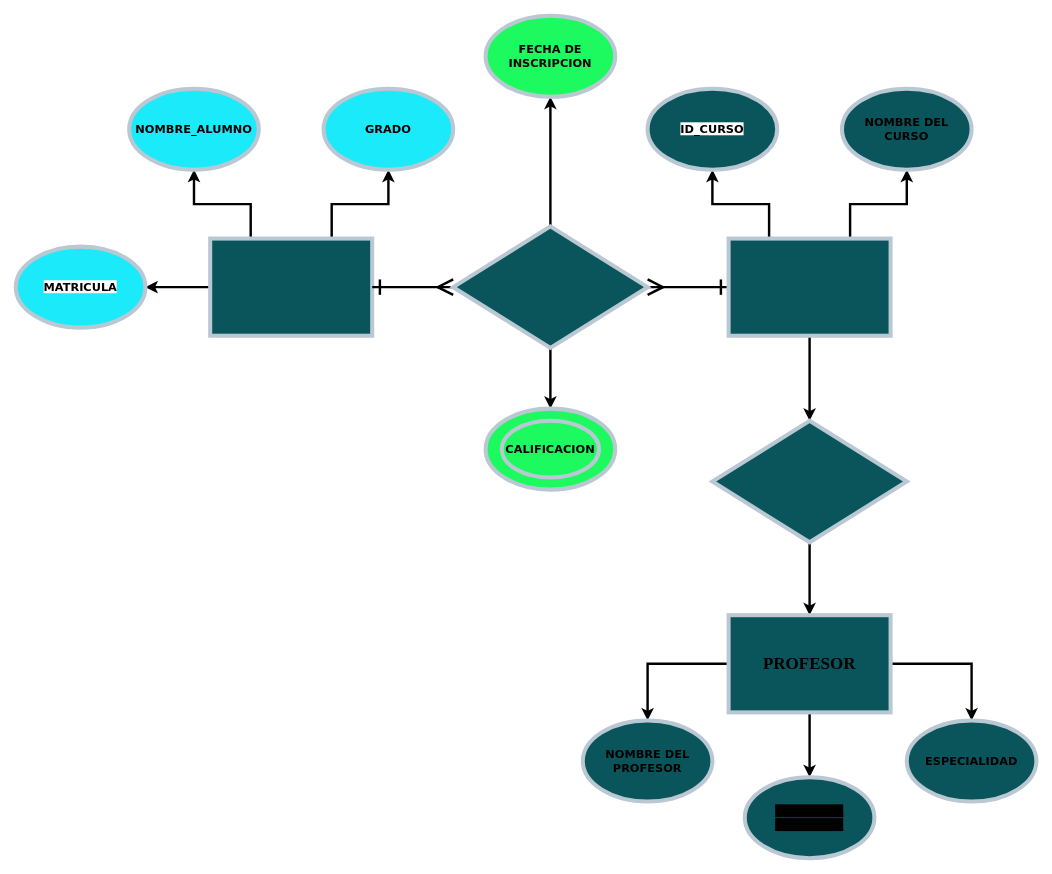
The diagram is 1052 pixels wide and 874 high, and some of its shapes have lost their labels. The shapes that lost their labels are listed below. From the top down, each one's centre as x and y in pixels, then its label:
At (291,286): "ALUMNOS".
At (550,287): "INSCRIPCION".
At (809,286): "CURSO".
At (809,481): "IMPARTIDO".
